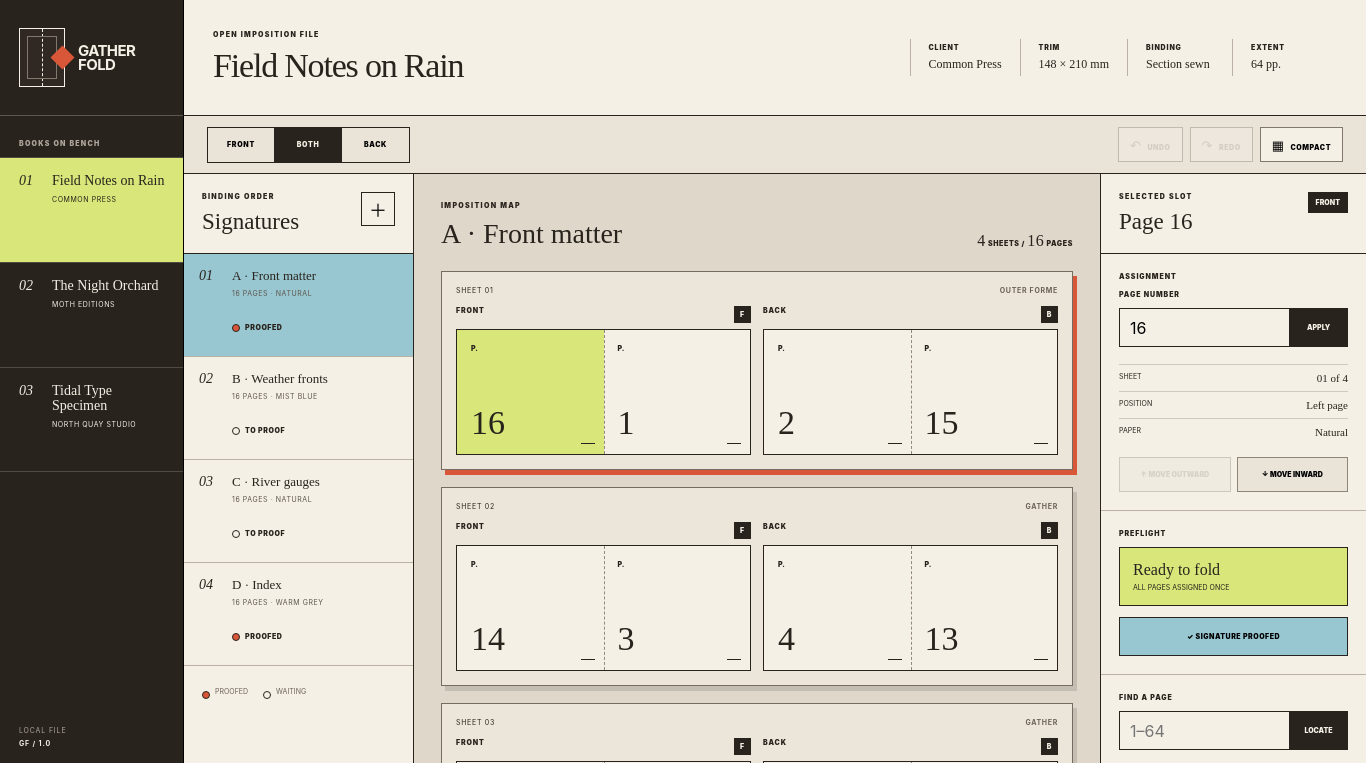
Test: Gatherfold workbench › closes the add-signature dialog with Escape and restores focus
Click the button named "Add signature" at (378, 209), box [361, 192, 395, 226]
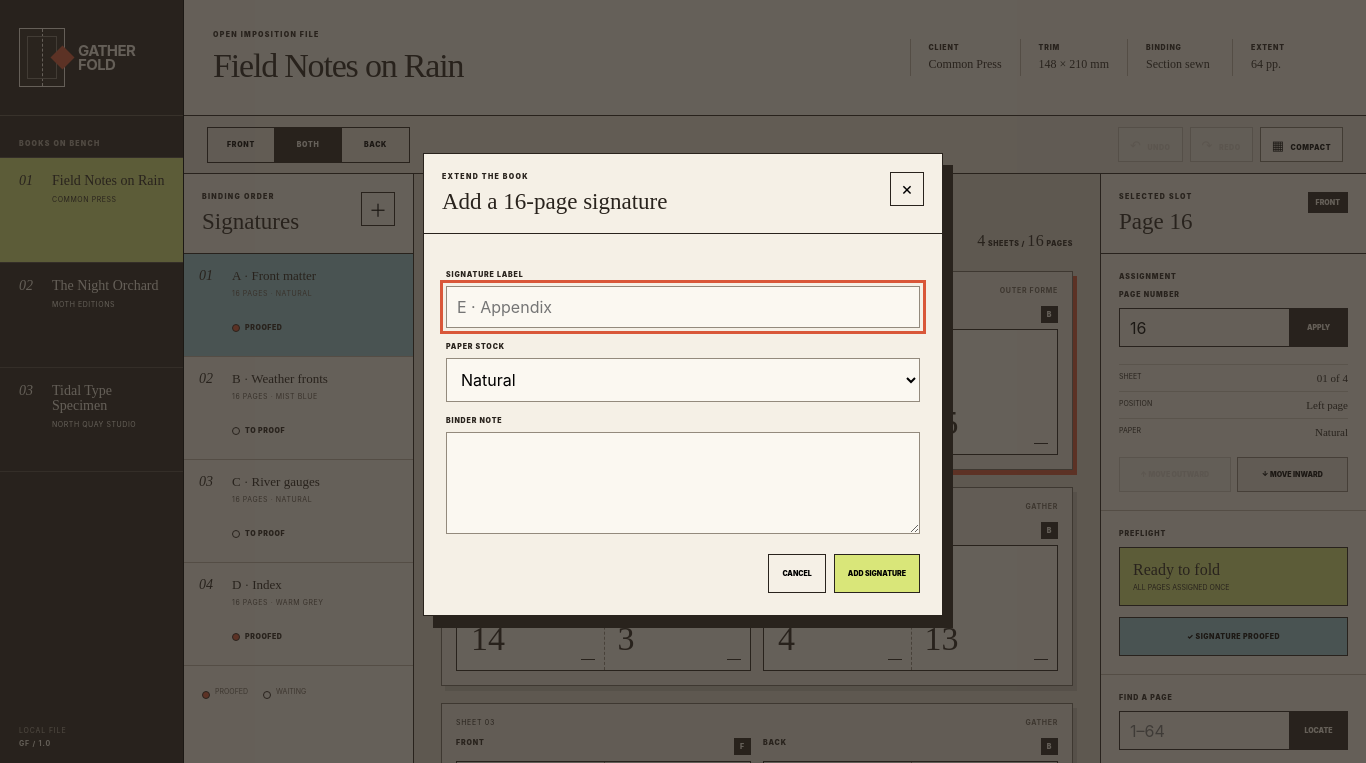
Press Escape
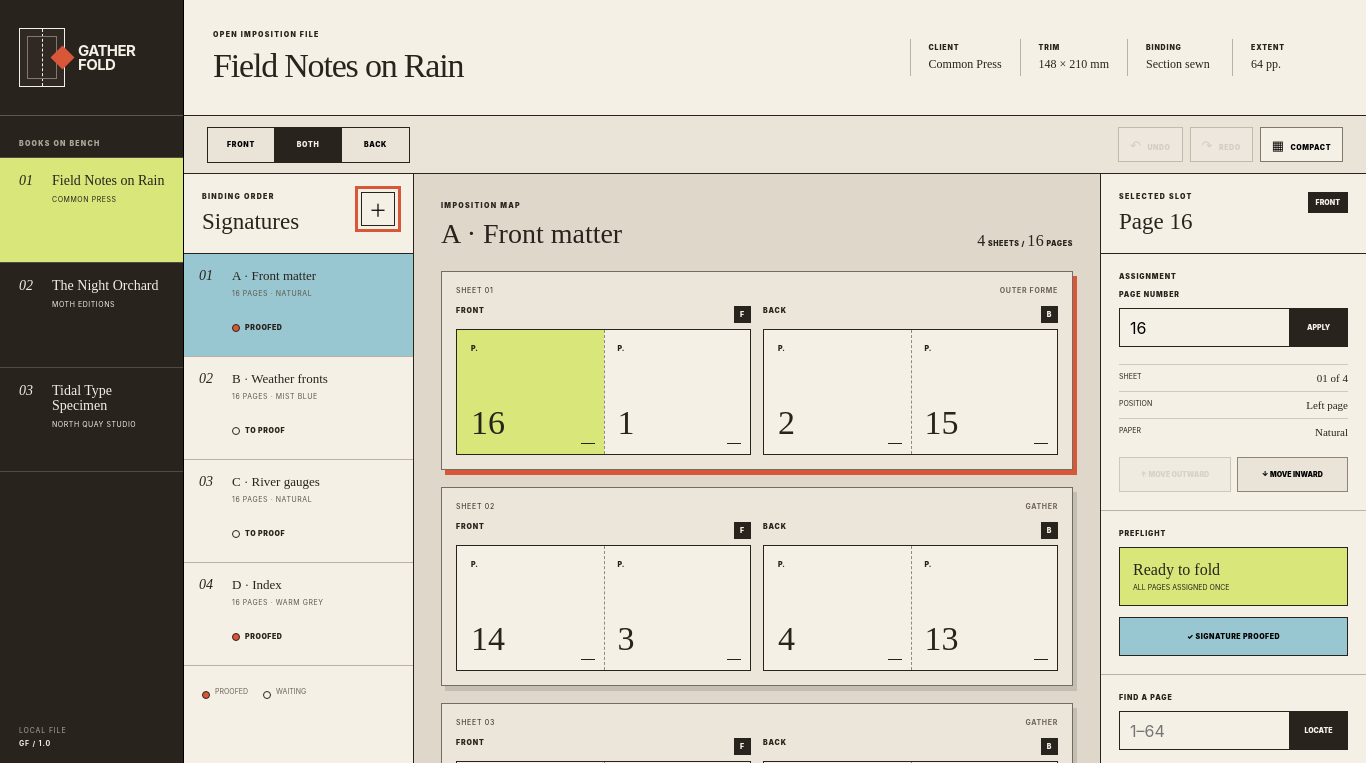
Result: the heading "Add a 16-page signature" is gone
